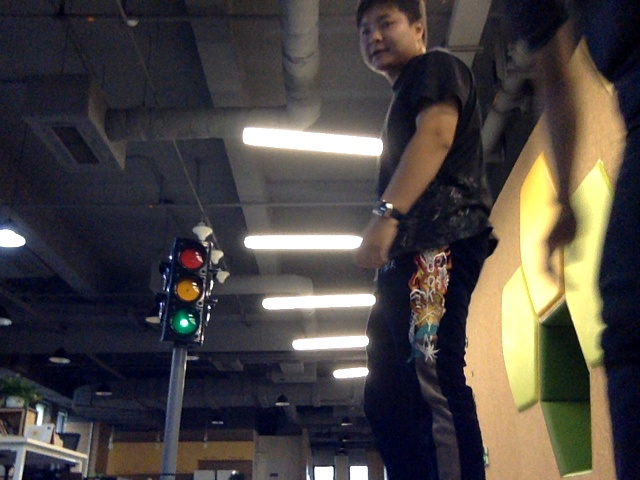green: (170, 241, 202, 336)
